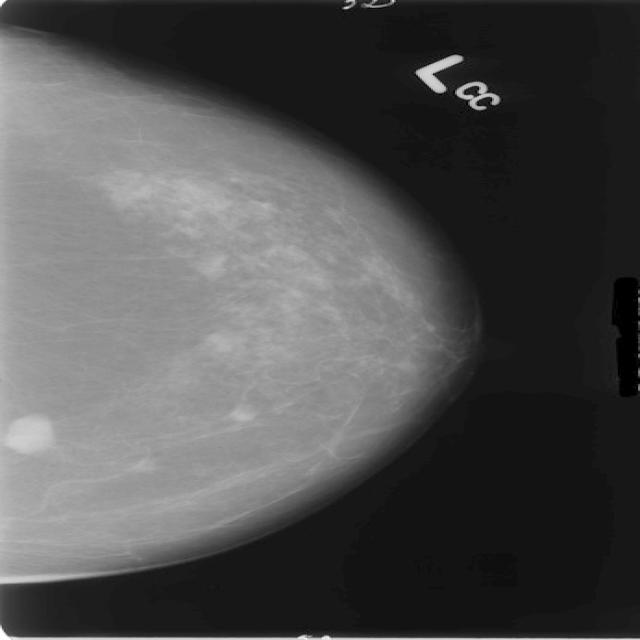tumour: (2, 414, 50, 453)
